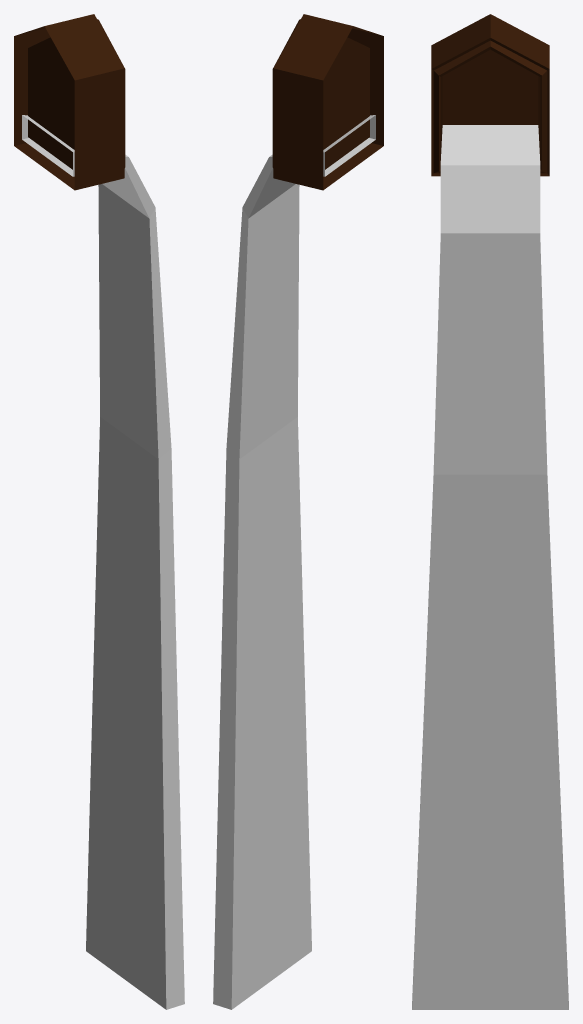
The model's file is Window_w_Lava.fbx.
3 views of the same model, side by side, from view 1: azimuth 30°, elevation 25°; view 2: azimuth 150°, elevation 25°; view 3: azimuth 270°, elevation 25° (orthographic). The views are drawn at different scales.
Parts seen in each view (by area): view 1: LavaFall_small, Window; view 2: LavaFall_small, Window; view 3: LavaFall_small, Window.
Part boxes in pixels (x1,y1,x2,y2): LavaFall_small: [22, 115, 184, 1009]; Window: [14, 14, 125, 190]; LavaFall_small: [213, 115, 375, 1009]; Window: [272, 14, 383, 190]; LavaFall_small: [412, 125, 568, 1009]; Window: [431, 14, 549, 176].
Bounding box in the file's own units: 1701 × 15802 × 2364.
